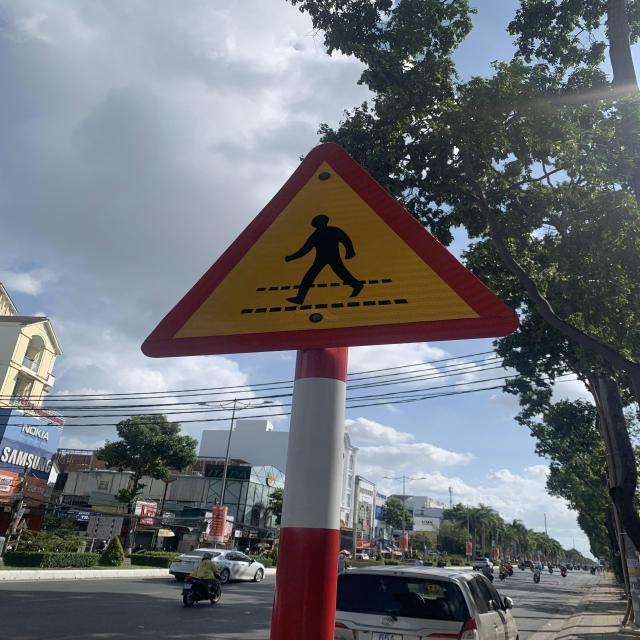Duong_Nguoi_Di_Bo_Sang_Ngang: (140, 140, 520, 358)
